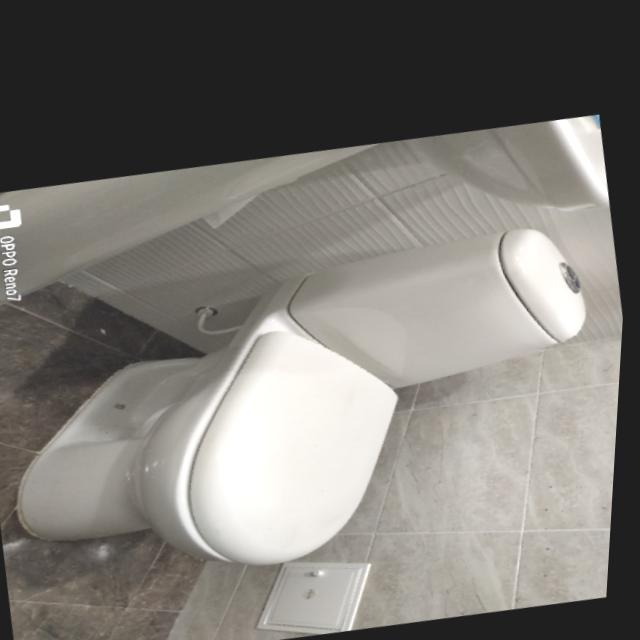toilet: (0, 193, 631, 616)
